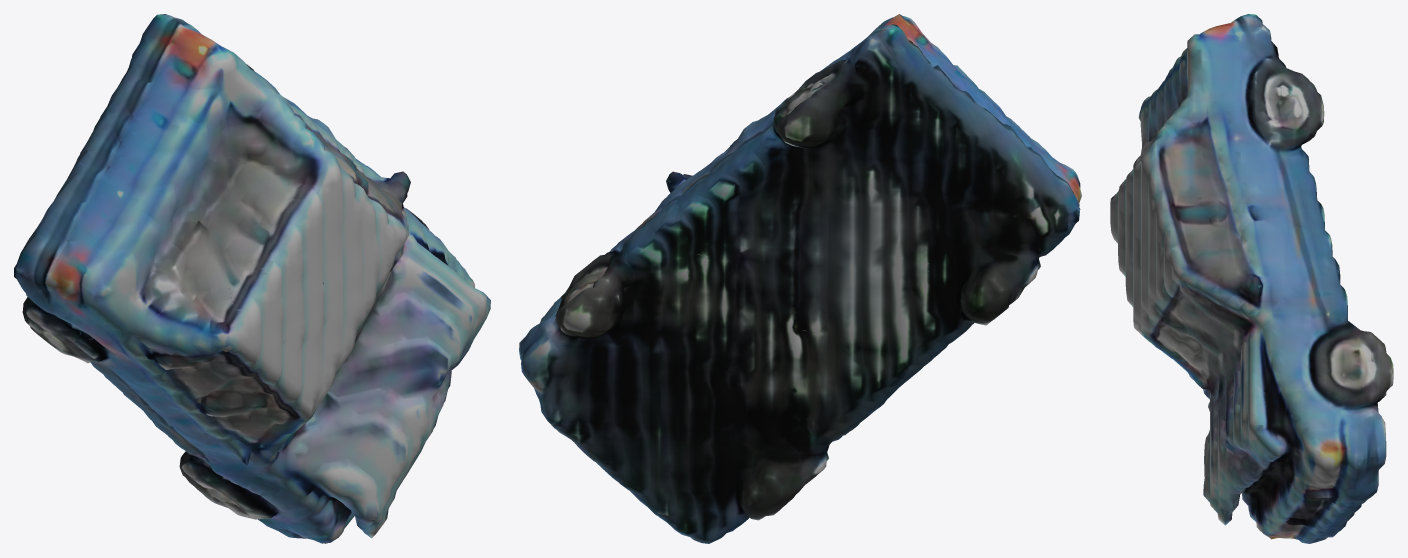
Rendered from damaged-blue-car-baked.glb.
The picture shows the model from 3 angles, left to right: view 1: azimuth 30°, elevation 25°; view 2: azimuth 150°, elevation 25°; view 3: azimuth 270°, elevation 25°; orthographic projection. The views are drawn at different scales.
Parts seen in each view (by area): view 1: mesh.glb; view 2: mesh.glb; view 3: mesh.glb.
Boxes of the visible parts, <box> form: mesh.glb: <box>14,14,490,543</box>; mesh.glb: <box>519,14,1081,543</box>; mesh.glb: <box>1110,14,1393,543</box>.
Bounding box in the file's own units: 0.86 × 0.9055 × 0.5057.
1 material, 1 textured.
